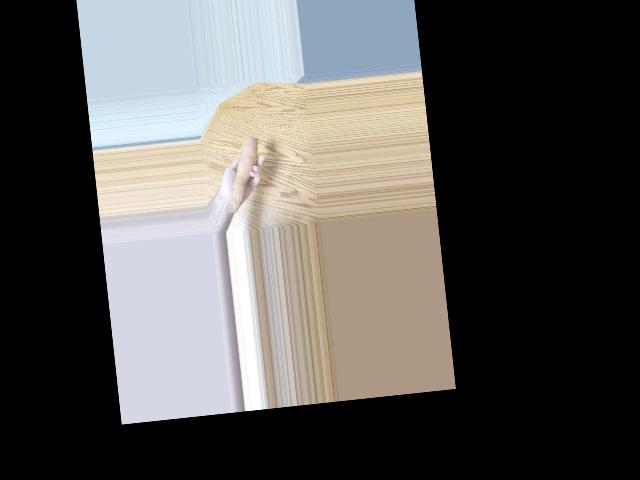sweet_potato: (220, 134, 266, 215)
